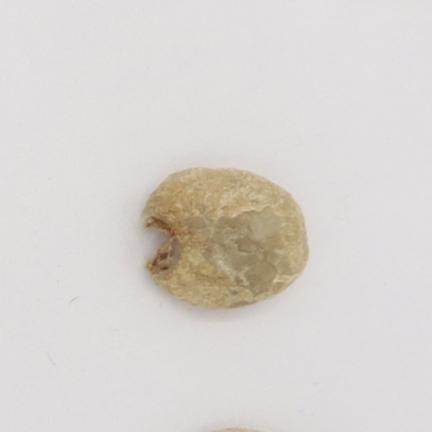broken: (143, 168, 308, 308)
